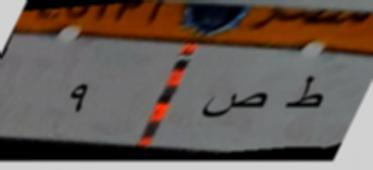9: (62, 77, 94, 121)
Taa: (280, 68, 324, 120)
saad: (196, 84, 270, 132)
